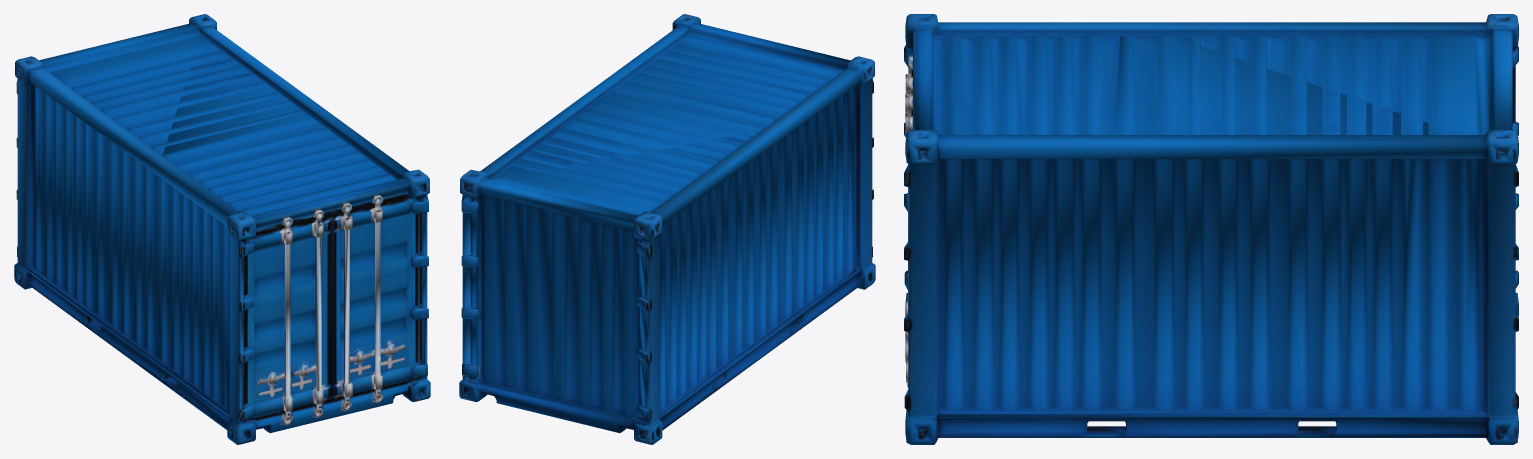
The model's file is blue_shipping_container_63cc3905_v3.glb.
The picture shows the model from 3 angles, left to right: view 1: azimuth 30°, elevation 25°; view 2: azimuth 150°, elevation 25°; view 3: azimuth 270°, elevation 25°; orthographic projection. The views are drawn at different scales.
Parts seen in each view (by area): view 1: material; view 2: material; view 3: material.
Boxes of the visible parts, x1,y1,x2,y2 form: material: (14,14,430,444); material: (459,14,875,444); material: (904,14,1518,444).
Size of the model in its own units: 0.9432 by 1.04 by 1.9.
Materials: 1 (1 with a texture image).
